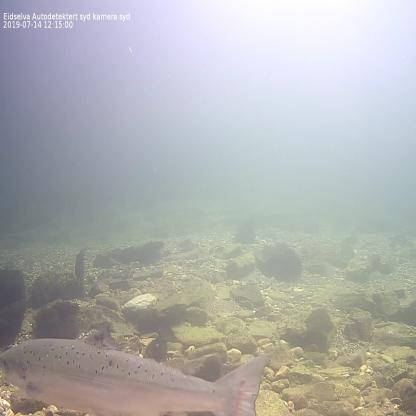salmon: (0, 321, 274, 416)
